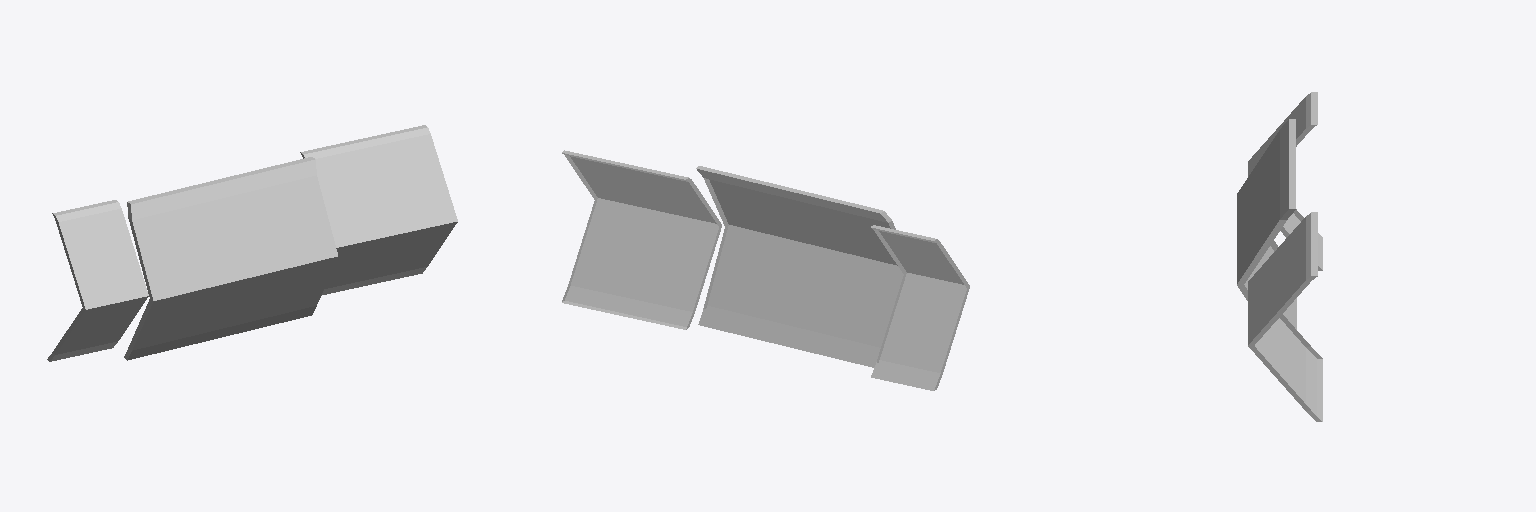
The model's file is purple roof.obj.
The picture shows the model from 3 angles: view 1: azimuth 30°, elevation 25°; view 2: azimuth 150°, elevation 25°; view 3: azimuth 270°, elevation 25°; orthographic projection.
Parts seen in each view (by area): view 1: Object.2, Object.1, Object.3; view 2: Object.2, Object.1, Object.3; view 3: Object.1, Object.2, Object.3.
Part boxes in pixels (x1,y1,x2,y2): Object.2: (124,157,337,360); Object.1: (300,125,457,295); Object.3: (47,200,148,361); Object.2: (696,166,903,367); Object.1: (562,150,721,329); Object.3: (871,225,969,390); Object.1: (1248,212,1322,421); Object.2: (1237,119,1296,329); Object.3: (1248,92,1322,270).
Size of the model in its own units: 109 by 43.14 by 21.77.